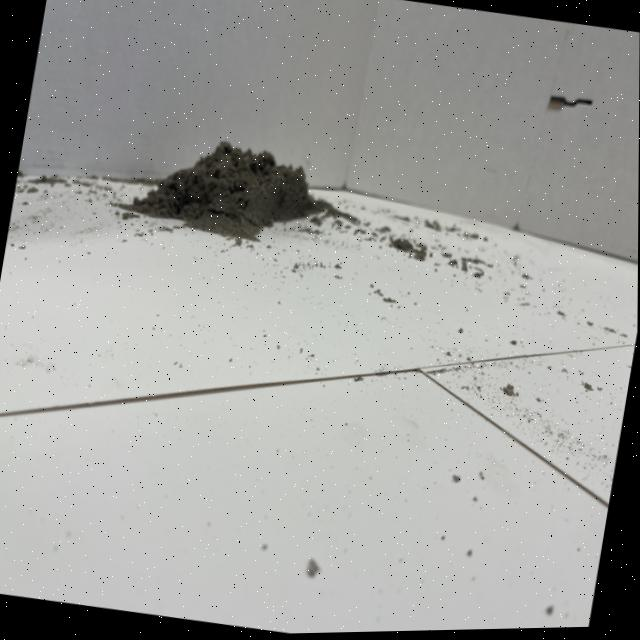sand: (117, 104, 342, 272)
